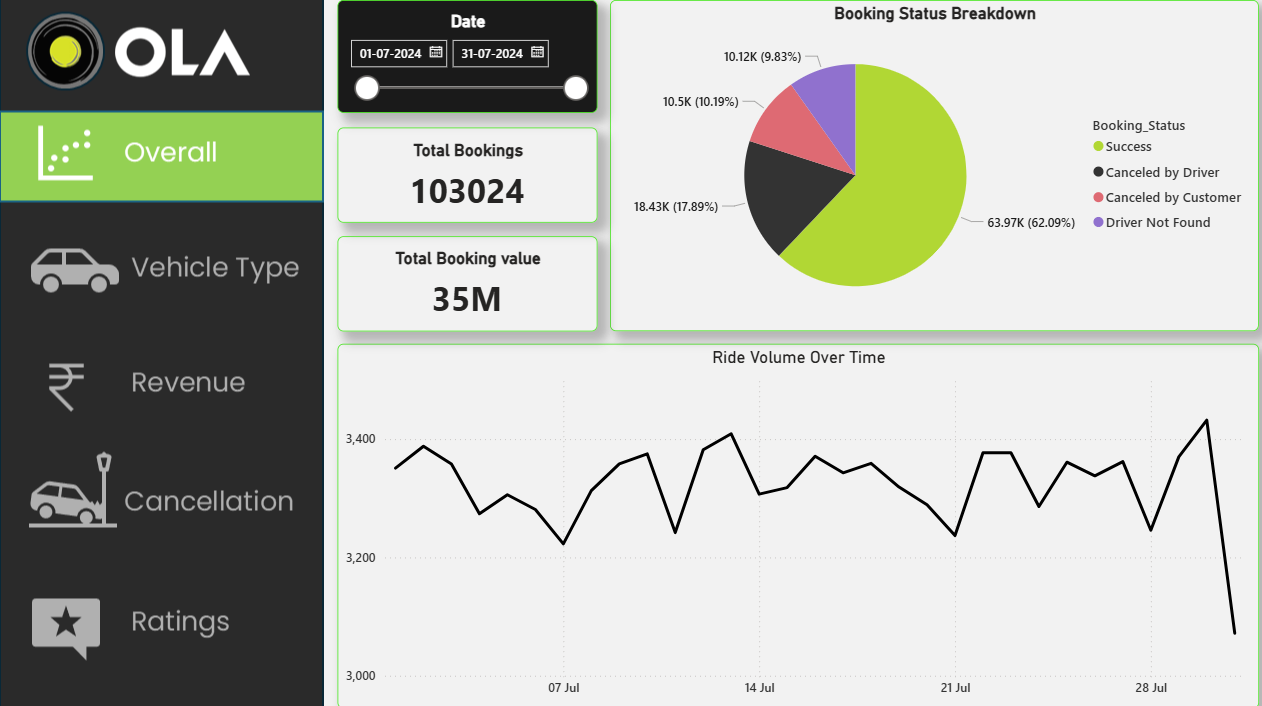

The page's visual inventory and layout, read from the dashboard file:
{"tool":"powerbi","page":{"name":"Overall ","canvas":[1280,720],"ordinal":0},"visuals":[{"type":"actionButton","box":[0,222,323.3,91.7],"z":0},{"type":"actionButton","box":[0,447.6,323.3,91.7],"z":1000},{"type":"actionButton","box":[0,331.8,323.3,91.7],"z":2000},{"type":"actionButton","box":[0,570.6,323.3,91.7],"z":3000},{"type":"actionButton","box":[0,112.2,323.3,91.7],"z":4000},{"type":"lineChart","title":"Ride Volume Over Time","fields":{"Y":["CountNonNull(OLA_Bookings.Booking_ID)"],"Category":["OLA_Bookings.Date"]},"box":[337.5,343.8,921.2,365],"z":5000},{"type":"pieChart","title":"Booking Status Breakdown","fields":{"Category":["OLA_Bookings.Booking_Status"],"Y":["CountNonNull(OLA_Bookings.Booking_Status)"]},"box":[610,0,648.8,331.2],"z":6000},{"type":"slicer","title":"Date","fields":{"Values":["OLA_Bookings.Date"]},"box":[337.5,0,260,112.5],"z":7000},{"type":"card","title":"Total Bookings","fields":{"Values":["CountNonNull(OLA_Bookings.Booking_ID)"]},"box":[337.5,127.5,260,95],"z":8000},{"type":"card","title":"Total Booking value","fields":{"Values":["Sum(OLA_Bookings.Booking_Value)"]},"box":[337.5,236.2,260,95],"z":9000}]}

Visuals, with their boxes on the page's 1280x720 design canvas (x1, y1, x2, y2). These are canvas units, not pixel positions in the 1262x706 screenshot, which may show the page scaled, cropped or inside an application window:
actionButton: {"left": 0, "top": 222, "right": 323, "bottom": 314}
actionButton: {"left": 0, "top": 448, "right": 323, "bottom": 539}
actionButton: {"left": 0, "top": 332, "right": 323, "bottom": 424}
actionButton: {"left": 0, "top": 571, "right": 323, "bottom": 662}
actionButton: {"left": 0, "top": 112, "right": 323, "bottom": 204}
"Ride Volume Over Time" lineChart: {"left": 338, "top": 344, "right": 1259, "bottom": 709}
"Booking Status Breakdown" pieChart: {"left": 610, "top": 0, "right": 1259, "bottom": 331}
"Date" slicer: {"left": 338, "top": 0, "right": 598, "bottom": 112}
"Total Bookings" card: {"left": 338, "top": 128, "right": 598, "bottom": 222}
"Total Booking value" card: {"left": 338, "top": 236, "right": 598, "bottom": 331}
